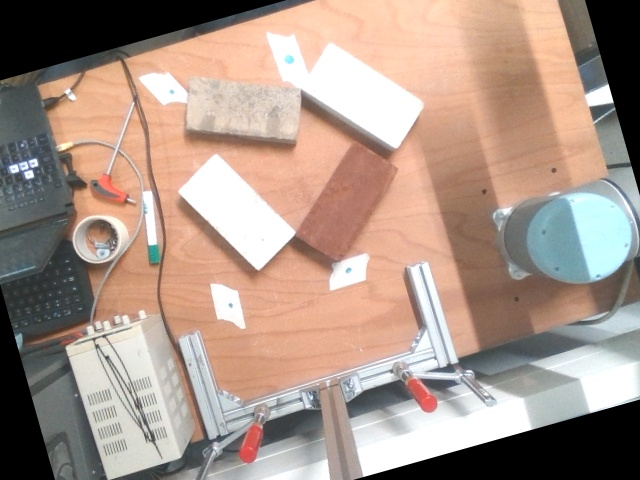brick: (178, 151, 296, 270), (301, 43, 424, 148), (298, 142, 396, 260), (182, 73, 301, 137)
